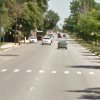crosswalk: (0, 68, 94, 74)
